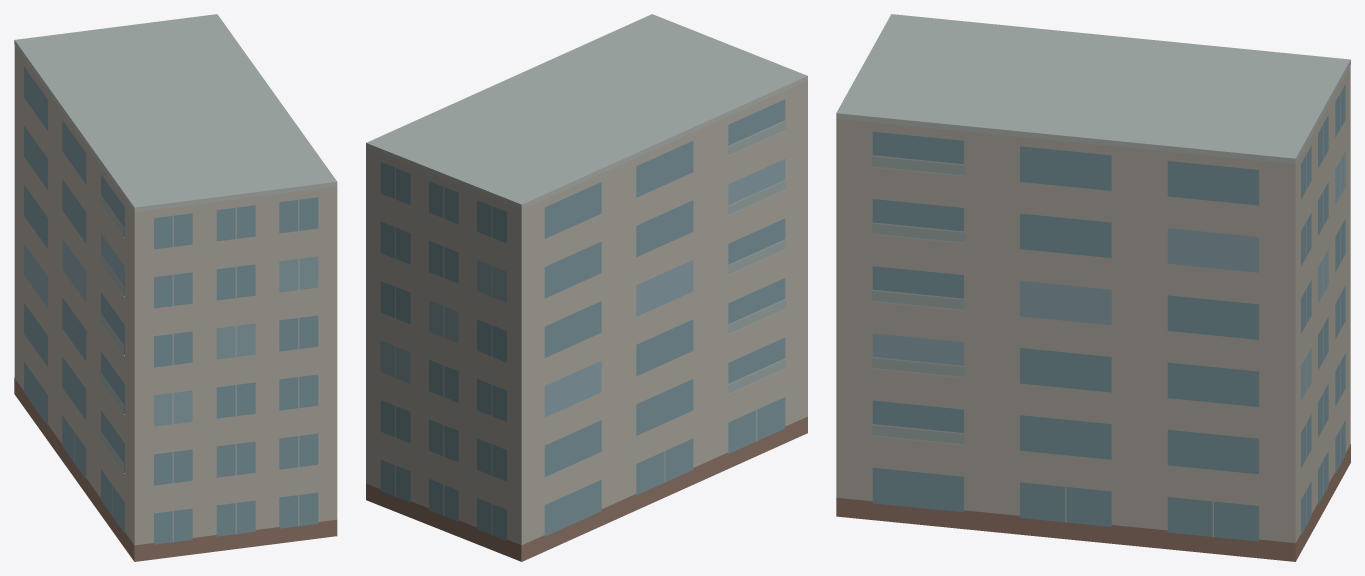
The model's file is survey-upis-32982549.glb.
3 renders of one model, left to right at view 1: azimuth 30°, elevation 25°; view 2: azimuth 150°, elevation 25°; view 3: azimuth 270°, elevation 25°, orthographic. The views are drawn at different scales.
Visible parts, largest first — view 1: survey-upis-32982549.tmp; view 2: survey-upis-32982549.tmp; view 3: survey-upis-32982549.tmp.
Boxes of the visible parts, left/top/right/bottom form: survey-upis-32982549.tmp: left=14, top=14, right=337, bottom=561; survey-upis-32982549.tmp: left=366, top=14, right=807, bottom=561; survey-upis-32982549.tmp: left=836, top=14, right=1350, bottom=561.
Bounding box in the file's own units: 13.86 × 18 × 20.83.
